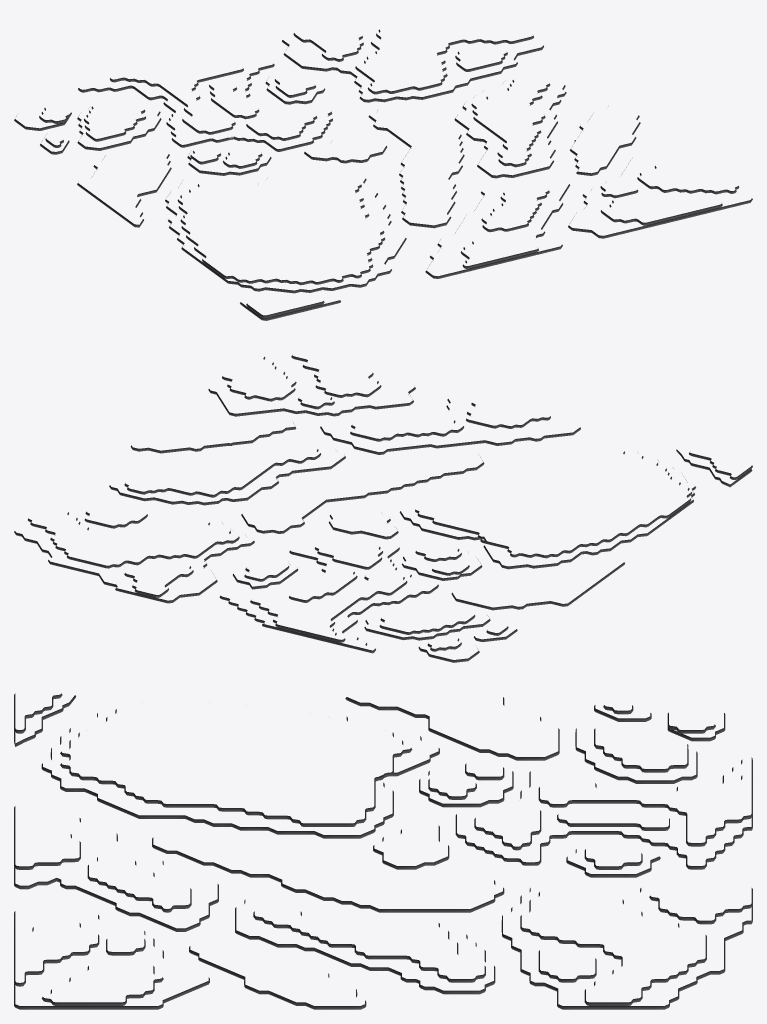
The model's file is map-1.glb.
3 renders of one model, top to bottom at view 1: azimuth 30°, elevation 25°; view 2: azimuth 150°, elevation 25°; view 3: azimuth 270°, elevation 25°, orthographic. The views are drawn at different scales.
Parts seen in each view (by area): view 1: grid1_extract18; view 2: grid1_extract18; view 3: grid1_extract18.
Boxes of the visible parts, x1,y1,x2,y2 form: grid1_extract18: (14, 29, 752, 320); grid1_extract18: (14, 355, 752, 662); grid1_extract18: (14, 693, 752, 1009).
Bounding box in the file's own units: 148 × 1.79 × 148.
1 material, 1 textured.
